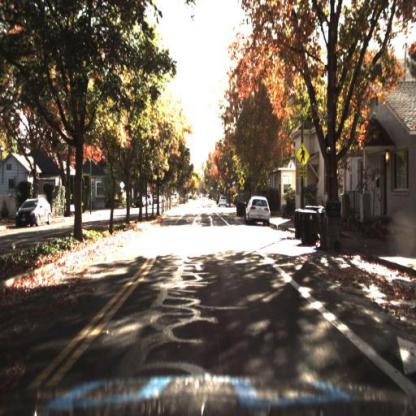car: (15, 197, 54, 228), (244, 192, 275, 226), (217, 194, 229, 210)
